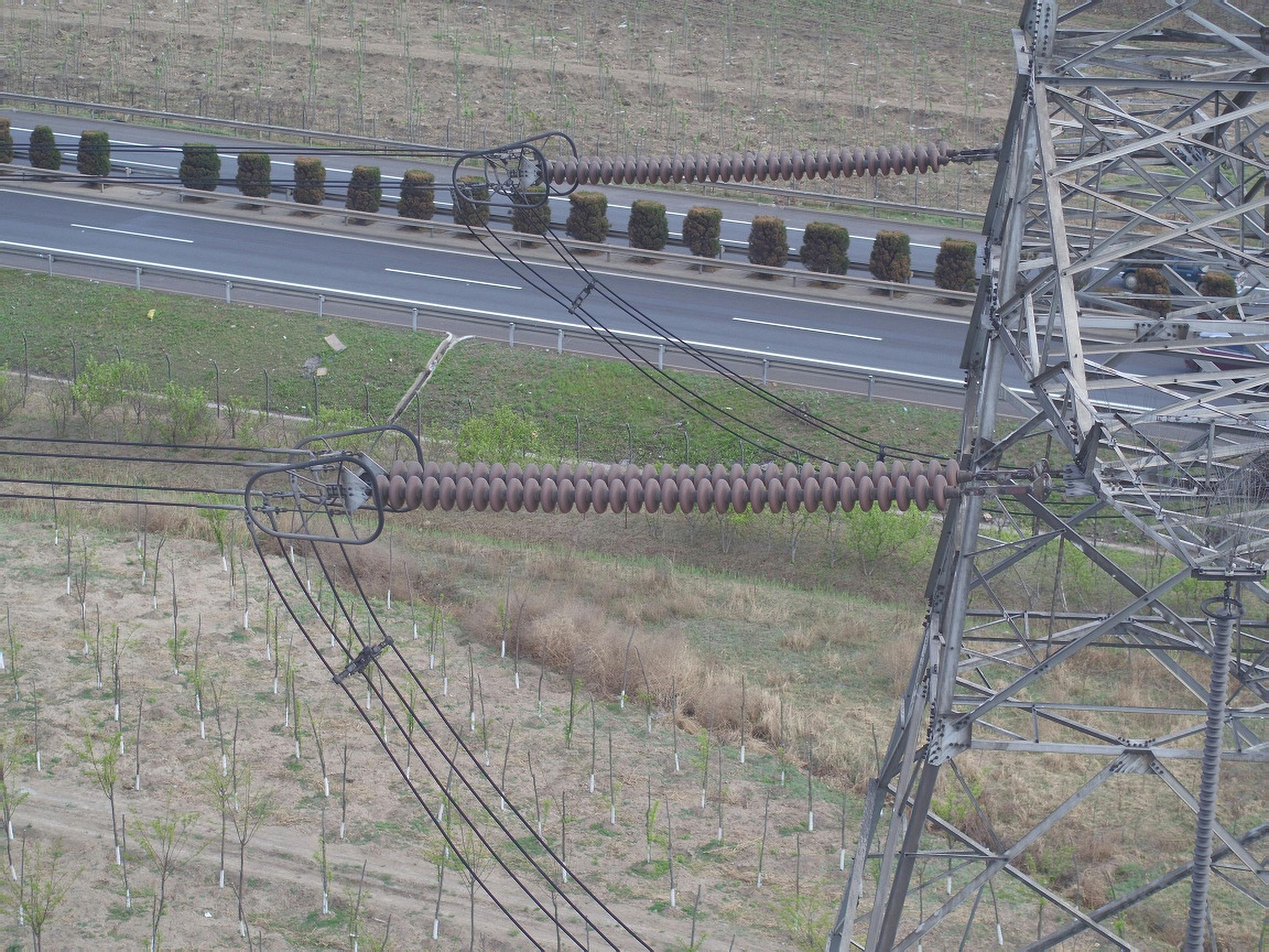insulator: (368, 456, 964, 518), (1178, 607, 1239, 952), (538, 139, 951, 187)
